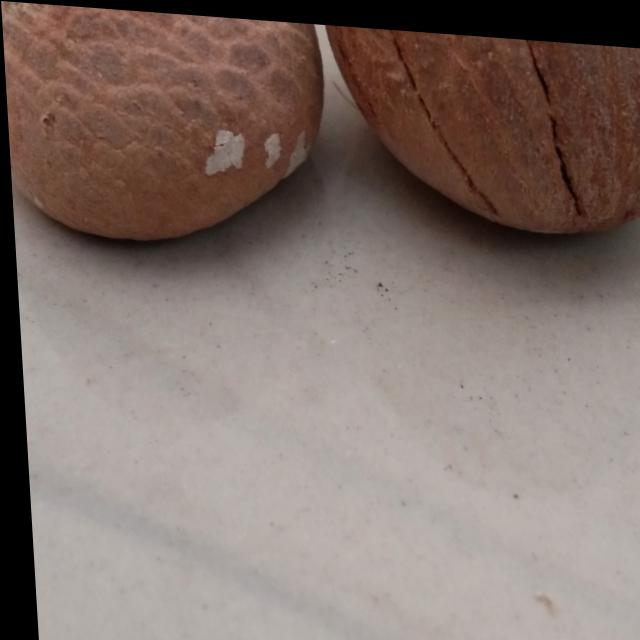karigot: (0, 0, 332, 270)
phatora: (310, 18, 640, 247)
